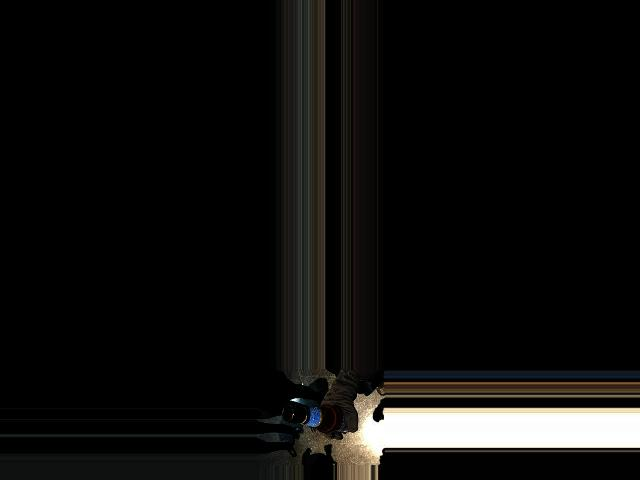beer: (282, 403, 353, 435)
